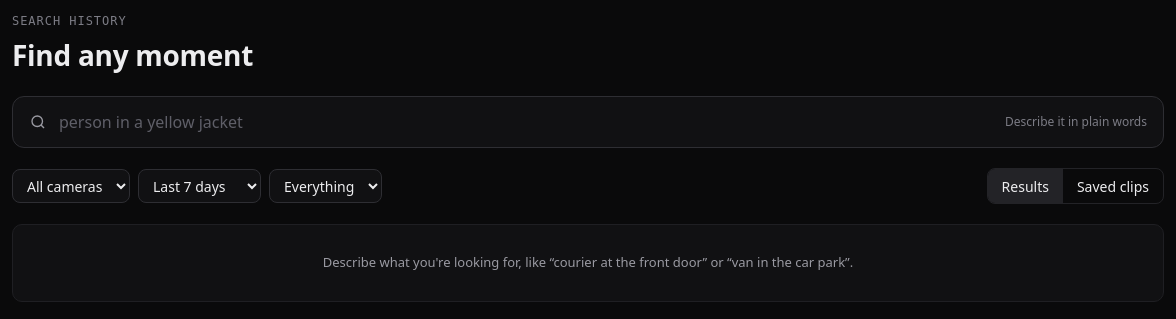
Test: SearchPage › explains when search is not available
Type "courier" into the search field at (526, 122), box [57,109,995,135]
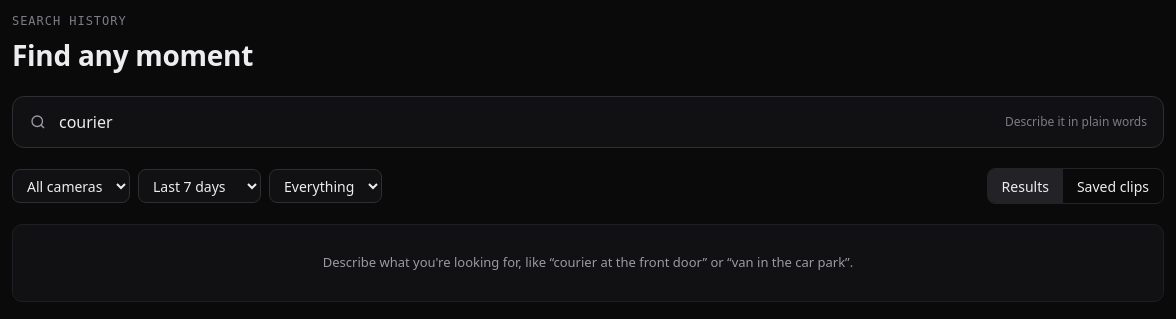
Submit the form named "searchbox", box [12,96,1164,148]
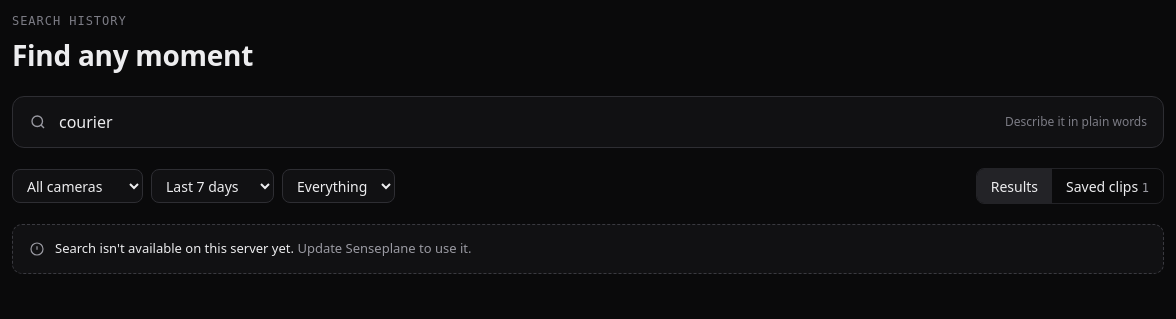
expect the text "Search isn't available on this server yet." is shown: met, box [55,239,294,257]
